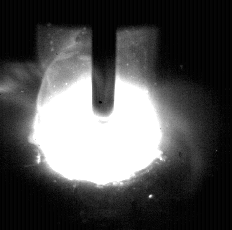arame: (93, 0, 118, 124)
poca: (32, 0, 162, 230)
